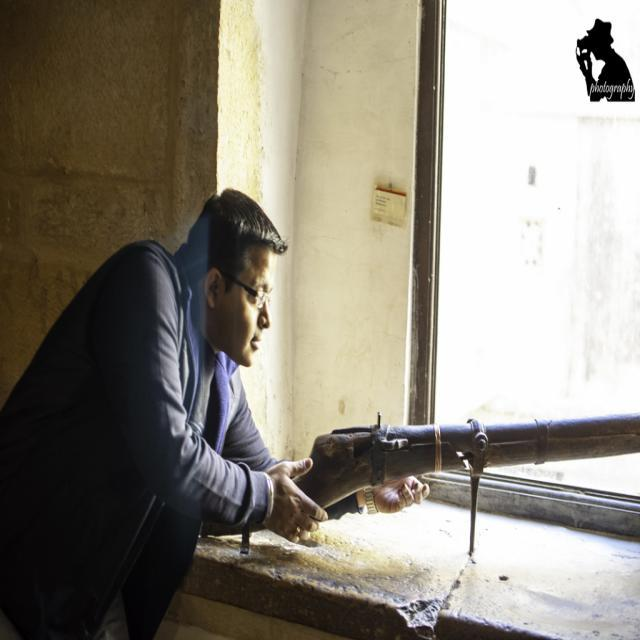weapon: (195, 410, 640, 556)
